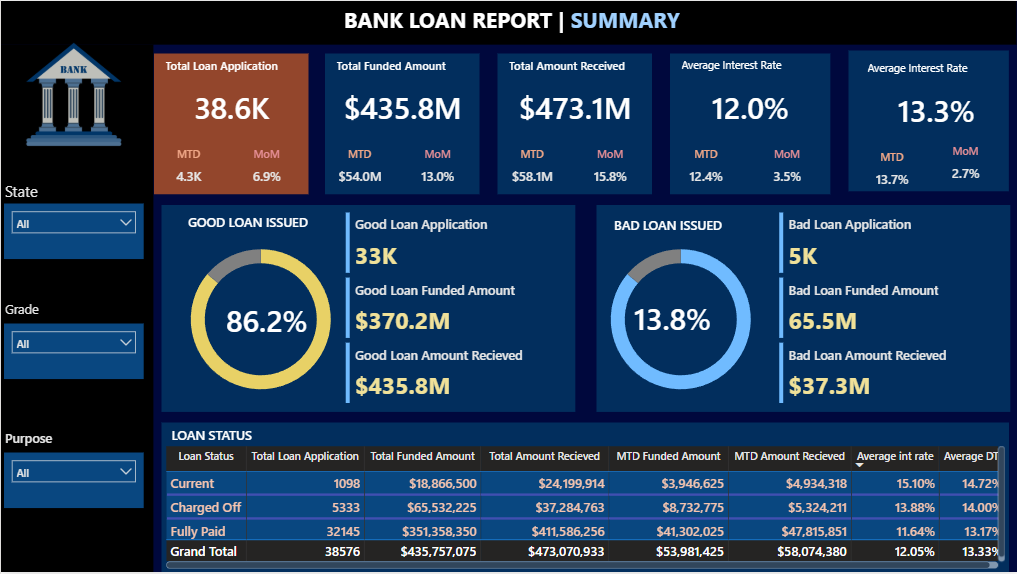

What the dashboard file says about the page in this screenshot:
{"tool":"powerbi","page":{"name":"Summary","canvas":[1280,720],"ordinal":0},"visuals":[{"type":"shape","box":[0,54.8,192,665.2],"z":0},{"type":"shape","box":[1068.4,62.4,202.2,177.6],"z":0,"group":"g5"},{"type":"shape","box":[192.8,66.1,194.6,177.6],"z":0,"group":"g1"},{"type":"shape","box":[407.4,66.1,194.6,177.6],"z":0,"group":"g2"},{"type":"shape","box":[625.2,66.1,194.6,177.6],"z":0,"group":"g3"},{"type":"shape","box":[843,66.1,202.2,177.6],"z":0,"group":"g4"},{"type":"shape","box":[0,0,1279.4,55],"z":1000},{"type":"card","fields":{"Values":["Bank loan Data.Total Loan Application"]},"box":[202.2,111.5,175.7,43.5],"z":1000,"group":"g1"},{"type":"card","fields":{"Values":["Bank loan Data.Total Funded Amount"]},"box":[416.8,111.5,175.7,43.5],"z":1000,"group":"g2"},{"type":"card","fields":{"Values":["Bank loan Data.Total Amount Recieved"]},"box":[634.6,111.5,175.7,43.5],"z":1000,"group":"g3"},{"type":"card","fields":{"Values":["Bank loan Data.Average int rate"]},"box":[852.8,111.5,182.6,43.5],"z":1000,"group":"g4"},{"type":"card","fields":{"Values":["Bank loan Data.Average DTI"]},"box":[1087,115.3,182.6,43.5],"z":1000,"group":"g5"},{"type":"textbox","box":[202.2,66.1,177.6,47.2],"z":2000,"group":"g1"},{"type":"textbox","box":[416.8,66.1,177.6,47.2],"z":2000,"group":"g2"},{"type":"textbox","box":[634.6,66.1,177.6,47.2],"z":2000,"group":"g3"},{"type":"textbox","box":[852.8,66.1,184.5,47.2],"z":2000,"group":"g4"},{"type":"textbox","box":[1087,70,184.5,47.2],"z":2000,"group":"g5"},{"type":"textbox","box":[0,221.1,183.3,41.6],"z":2000,"group":"g6"},{"type":"shape","box":[750.2,257,521.6,260.8],"z":2000},{"type":"textbox","box":[0,372.3,183.3,41.6],"z":2000,"group":"g7"},{"type":"textbox","box":[0,534.8,183.3,41.6],"z":2000,"group":"g8"},{"type":"card","title":"MTD","fields":{"Values":["Bank loan Data.MTD Loan Application"]},"box":[192.8,183.3,86.9,60.5],"z":3000,"group":"g1"},{"type":"card","title":"MTD","fields":{"Values":["Bank loan Data.MTD Funded Amount"]},"box":[407.4,183.3,86.9,60.5],"z":3000,"group":"g2"},{"type":"card","title":"MTD","fields":{"Values":["Bank loan Data.MTD Amount Recieved"]},"box":[625.2,183.3,86.9,60.5],"z":3000,"group":"g3"},{"type":"card","title":"MTD","fields":{"Values":["Bank loan Data.MTD AVG INT Rate"]},"box":[843,183.3,90.3,60.5],"z":3000,"group":"g4"},{"type":"card","title":"MTD","fields":{"Values":["Bank loan Data.MTD AVG DTI"]},"box":[1077.2,187.1,90.3,60.5],"z":3000,"group":"g5"},{"type":"card","fields":{"Values":["Bank loan Data.Bad Loan %"]},"box":[757.8,378,175.7,43.5],"z":3000},{"type":"card","title":"MoM","fields":{"Values":["Bank loan Data.MoM Loan Application"]},"box":[291.1,183.3,86.9,60.5],"z":4000,"group":"g1"},{"type":"card","title":"MoM","fields":{"Values":["Bank loan Data.MoM Total Funded Amount"]},"box":[505.7,183.3,86.9,60.5],"z":4000,"group":"g2"},{"type":"card","title":"MoM","fields":{"Values":["Bank loan Data.MoM Total Amount Recieved"]},"box":[723.5,183.3,86.9,60.5],"z":4000,"group":"g3"},{"type":"card","title":"MoM","fields":{"Values":["Bank loan Data.MoM AVG INT Rate"]},"box":[945.1,183.3,90.3,60.5],"z":4000,"group":"g4"},{"type":"card","title":"MoM","fields":{"Values":["Bank loan Data.MoM AVG DTI"]},"box":[1170.2,186.5,90.7,60.4],"z":4000,"group":"g5"},{"type":"shape","box":[202.2,257,521.6,260.8],"z":4000},{"type":"card","fields":{"Values":["Bank loan Data.Good Loan %"]},"box":[262.7,378,143.6,47.2],"z":5000},{"type":"textbox","box":[230.6,262.7,177.6,51],"z":6000},{"type":"textbox","box":[427.1,0,523.5,54.8],"z":7000},{"type":"group","id":"g1","title":"Group 1","box":[192.8,66.1,194.6,177.6],"z":8000},{"type":"group","id":"g2","title":"Group 1","box":[407.4,66.1,194.6,177.6],"z":9000},{"type":"group","id":"g3","title":"Group 1","box":[625.2,66.1,194.6,177.6],"z":10000},{"type":"group","id":"g4","title":"Group 1","box":[843,66.1,202.2,177.6],"z":11000},{"type":"group","id":"g5","title":"Group 1","box":[1068.4,62.4,203.2,185.2],"z":12000},{"type":"donutChart","fields":{"Category":["Bank loan Data.Good vs Bad"],"Y":["Bank loan Data.Total Loan Application"]},"box":[202.2,285.4,249.5,230.6],"z":13000},{"type":"cardVisual","fields":{"Data":["Bank loan Data.Good Loan Application","Bank loan Data.Good Loan Funded Amount","Bank loan Data.Good Loan Amount Recieved"]},"box":[429,266.5,294.8,240],"z":14000},{"type":"donutChart","fields":{"Category":["Bank loan Data.Good vs Bad"],"Y":["Bank loan Data.Total Loan Application"]},"box":[731.3,285.4,249.5,230.6],"z":15000},{"type":"cardVisual","fields":{"Data":["Bank loan Data.Bad Loan Application","Bank loan Data.Bad Loan Funded Amount","Bank loan Data.Bad Loan Amount Recieved"]},"box":[975.1,266.5,294.8,240],"z":16000},{"type":"shape","box":[202.2,531,1067.7,189],"z":17000},{"type":"textbox","box":[767.2,266.5,177.6,47.2],"z":18000},{"type":"tableEx","fields":{"Values":["Bank loan Data.loan_status","Bank loan Data.Total Loan Application","Bank loan Data.Total Funded Amount","Bank loan Data.Total Amount Recieved","Bank loan Data.MTD Funded Amount","Bank loan Data.MTD Amount Recieved","Bank loan Data.Average int rate","Bank loan Data.Average DTI"]},"box":[202.2,555.6,1067.7,164.4],"z":19000},{"type":"slicer","fields":{"Values":["Bank loan Data.address_state"]},"box":[3.8,255.1,175.7,69.9],"z":19002,"group":"g6"},{"type":"slicer","fields":{"Values":["Bank loan Data.grade"]},"box":[3.8,406.3,175.7,69.9],"z":19002,"group":"g7"},{"type":"slicer","fields":{"Values":["Bank loan Data.purpose"]},"box":[3.8,568.8,175.7,69.9],"z":19002,"group":"g8"},{"type":"textbox","box":[209.8,531,177.6,51],"z":20000},{"type":"group","id":"g6","title":"Group 2","box":[0,221.1,183.3,103.9],"z":21000},{"type":"group","id":"g7","title":"Group 2","box":[0,372.3,183.3,103.9],"z":22000},{"type":"group","id":"g8","title":"Group 2","box":[0,534.8,183.3,103.9],"z":23000},{"type":"image","box":[0,22.7,183.3,189],"z":24000}]}

Visuals, with their boxes in screenshot pixels (x1, y1, x2, y2), scaled from the page's 1280x720 canvas onto the 1017x574 screenshot:
shape: [left=0, top=44, right=153, bottom=573]
shape: [left=849, top=50, right=1010, bottom=191]
shape: [left=153, top=53, right=308, bottom=194]
shape: [left=324, top=53, right=478, bottom=194]
shape: [left=497, top=53, right=651, bottom=194]
shape: [left=670, top=53, right=830, bottom=194]
shape: [left=0, top=0, right=1016, bottom=44]
card - Bank loan Data.Total Loan Application: [left=161, top=89, right=300, bottom=124]
card - Bank loan Data.Total Funded Amount: [left=331, top=89, right=471, bottom=124]
card - Bank loan Data.Total Amount Recieved: [left=504, top=89, right=644, bottom=124]
card - Bank loan Data.Average int rate: [left=678, top=89, right=823, bottom=124]
card - Bank loan Data.Average DTI: [left=864, top=92, right=1009, bottom=127]
textbox: [left=161, top=53, right=302, bottom=90]
textbox: [left=331, top=53, right=472, bottom=90]
textbox: [left=504, top=53, right=645, bottom=90]
textbox: [left=678, top=53, right=824, bottom=90]
textbox: [left=864, top=56, right=1010, bottom=93]
textbox: [left=0, top=176, right=146, bottom=209]
shape: [left=596, top=205, right=1010, bottom=413]
textbox: [left=0, top=297, right=146, bottom=330]
textbox: [left=0, top=426, right=146, bottom=460]
"MTD" card: [left=153, top=146, right=222, bottom=194]
"MTD" card: [left=324, top=146, right=393, bottom=194]
"MTD" card: [left=497, top=146, right=566, bottom=194]
"MTD" card: [left=670, top=146, right=742, bottom=194]
"MTD" card: [left=856, top=149, right=928, bottom=197]
card - Bank loan Data.Bad Loan %: [left=602, top=301, right=742, bottom=336]
"MoM" card: [left=231, top=146, right=300, bottom=194]
"MoM" card: [left=402, top=146, right=471, bottom=194]
"MoM" card: [left=575, top=146, right=644, bottom=194]
"MoM" card: [left=751, top=146, right=823, bottom=194]
"MoM" card: [left=930, top=149, right=1002, bottom=197]
shape: [left=161, top=205, right=575, bottom=413]
card - Bank loan Data.Good Loan %: [left=209, top=301, right=323, bottom=339]
textbox: [left=183, top=209, right=324, bottom=250]
textbox: [left=339, top=0, right=755, bottom=44]
"Group 1" group: [left=153, top=53, right=308, bottom=194]
"Group 1" group: [left=324, top=53, right=478, bottom=194]
"Group 1" group: [left=497, top=53, right=651, bottom=194]
"Group 1" group: [left=670, top=53, right=830, bottom=194]
"Group 1" group: [left=849, top=50, right=1010, bottom=197]
donutChart - Bank loan Data.Good vs Bad x Bank loan Data.Total Loan Application: [left=161, top=228, right=359, bottom=411]
cardVisual - Bank loan Data.Good Loan Application x Bank loan Data.Good Loan Funded Amount: [left=341, top=212, right=575, bottom=404]
donutChart - Bank loan Data.Good vs Bad x Bank loan Data.Total Loan Application: [left=581, top=228, right=779, bottom=411]
cardVisual - Bank loan Data.Bad Loan Application x Bank loan Data.Bad Loan Funded Amount: [left=775, top=212, right=1009, bottom=404]
shape: [left=161, top=423, right=1009, bottom=573]
textbox: [left=610, top=212, right=751, bottom=250]
tableEx - Bank loan Data.loan_status x Bank loan Data.Total Loan Application: [left=161, top=443, right=1009, bottom=573]
slicer - Bank loan Data.address_state: [left=3, top=203, right=143, bottom=259]
slicer - Bank loan Data.grade: [left=3, top=324, right=143, bottom=380]
slicer - Bank loan Data.purpose: [left=3, top=453, right=143, bottom=509]
textbox: [left=167, top=423, right=308, bottom=464]
"Group 2" group: [left=0, top=176, right=146, bottom=259]
"Group 2" group: [left=0, top=297, right=146, bottom=380]
"Group 2" group: [left=0, top=426, right=146, bottom=509]
image: [left=0, top=18, right=146, bottom=169]
